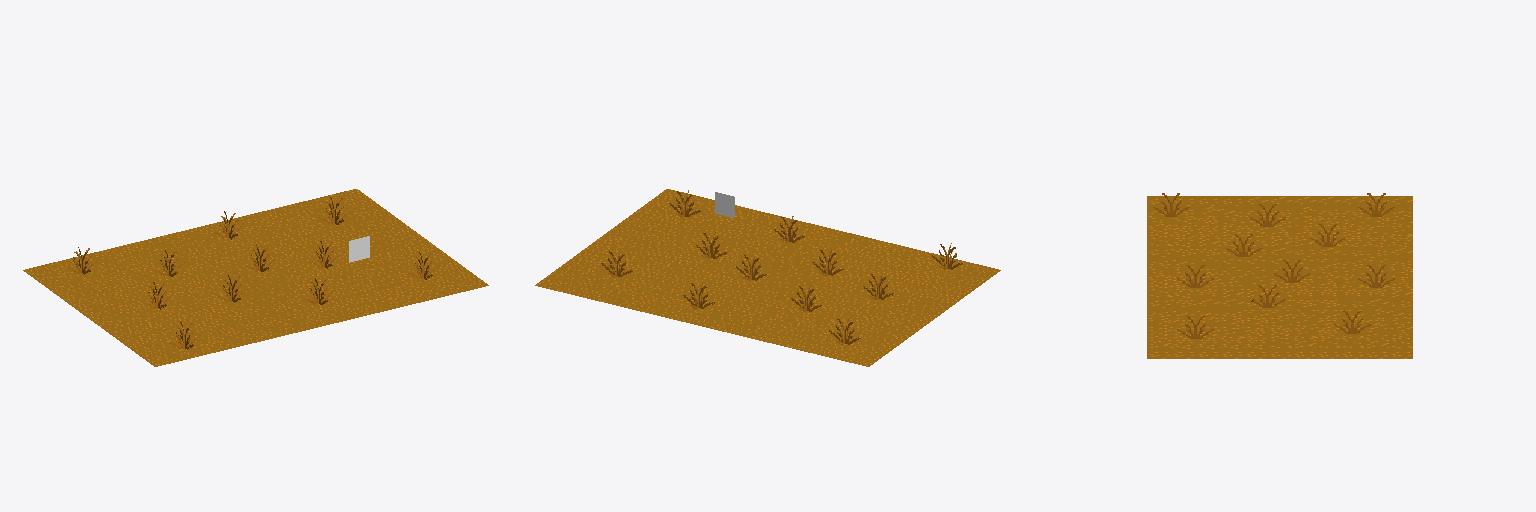
The picture shows the model from 3 angles: view 1: azimuth 30°, elevation 25°; view 2: azimuth 150°, elevation 25°; view 3: azimuth 270°, elevation 25°; orthographic projection.
Parts seen in each view (by area): view 1: Default; view 2: Default; view 3: Default.
Part boxes in pixels (x1,y1,x2,y2): Default: (23,189,488,366); Default: (535,189,1000,366); Default: (1147,193,1412,358).
Size of the model in its own units: 16 by 2 by 11.
2 materials, 1 textured.